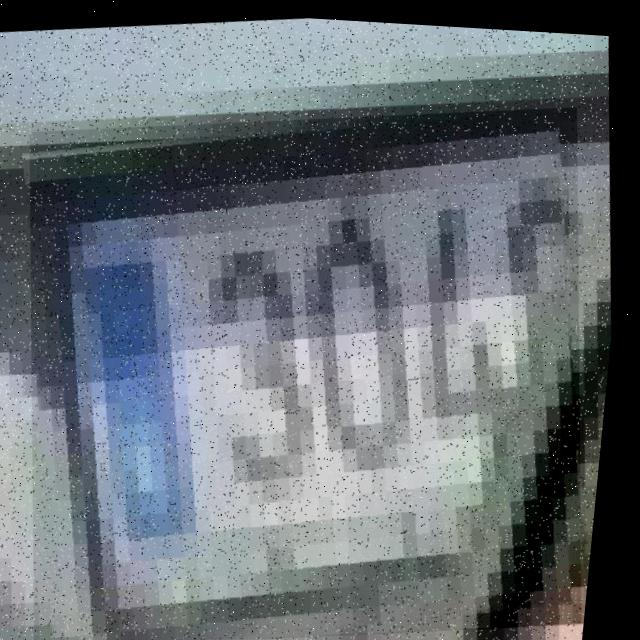LicensePlate: (0, 74, 632, 640)
